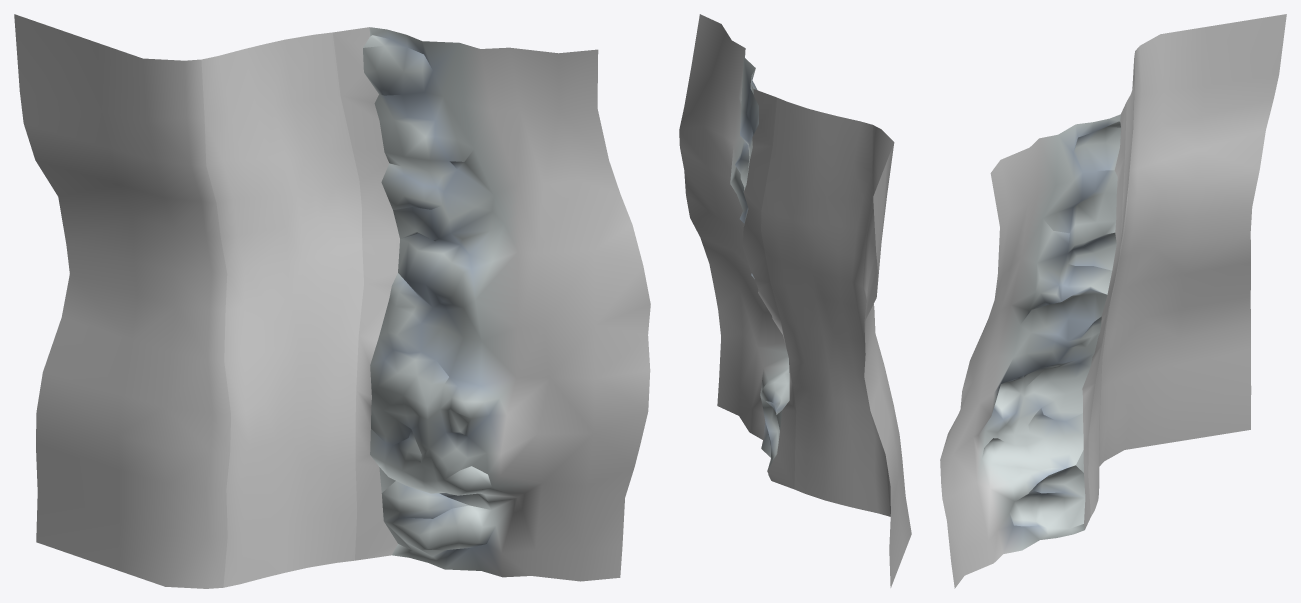
Rendered from Snow_RampStraightB_lod1.glb.
The picture shows the model from 3 angles, left to right: view 1: azimuth 30°, elevation 25°; view 2: azimuth 150°, elevation 25°; view 3: azimuth 270°, elevation 25°; orthographic projection. The views are drawn at different scales.
Parts seen in each view (by area): view 1: MeshNode_0, MeshNode_1; view 2: MeshNode_0, MeshNode_1; view 3: MeshNode_0, MeshNode_1.
Part boxes in pixels (x1,y1,x2,y2): MeshNode_0: (14, 14, 650, 588); MeshNode_1: (201, 32, 363, 587); MeshNode_0: (679, 14, 911, 587); MeshNode_1: (761, 97, 890, 516); MeshNode_0: (940, 14, 1286, 588); MeshNode_1: (1088, 53, 1134, 516).
Size of the model in its own units: 114 by 128 by 96.72.
